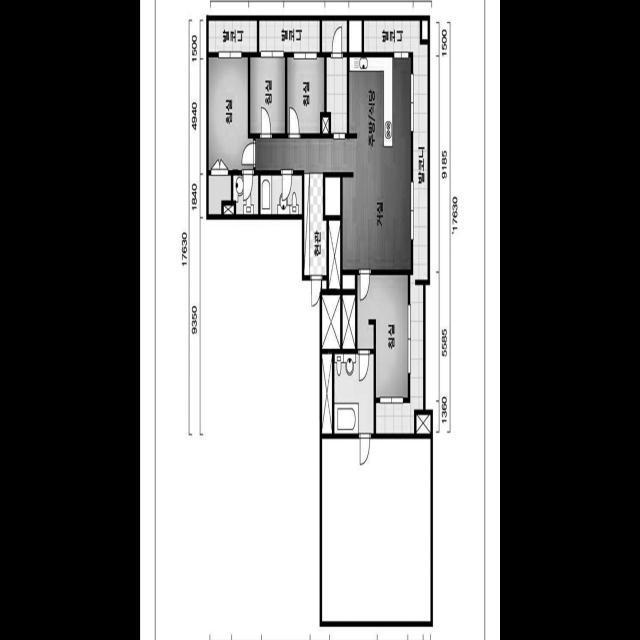background: (140, 0, 499, 640)
space_balconi: (364, 19, 428, 433), (322, 20, 347, 133), (259, 20, 320, 52), (209, 19, 257, 52)
space_bedroom: (208, 57, 253, 214), (357, 274, 408, 397), (287, 57, 324, 133), (250, 57, 285, 133)
space_front: (304, 173, 327, 275)
space_kitchen: (349, 56, 393, 146)
space_living_room: (255, 56, 411, 269)
space_other: (322, 438, 431, 621), (322, 294, 340, 349), (322, 353, 332, 433), (329, 219, 340, 289), (342, 294, 355, 348), (416, 414, 431, 434), (322, 117, 329, 133), (224, 205, 234, 214)
space_toilet: (334, 353, 374, 434), (260, 175, 302, 214), (233, 175, 258, 214)
